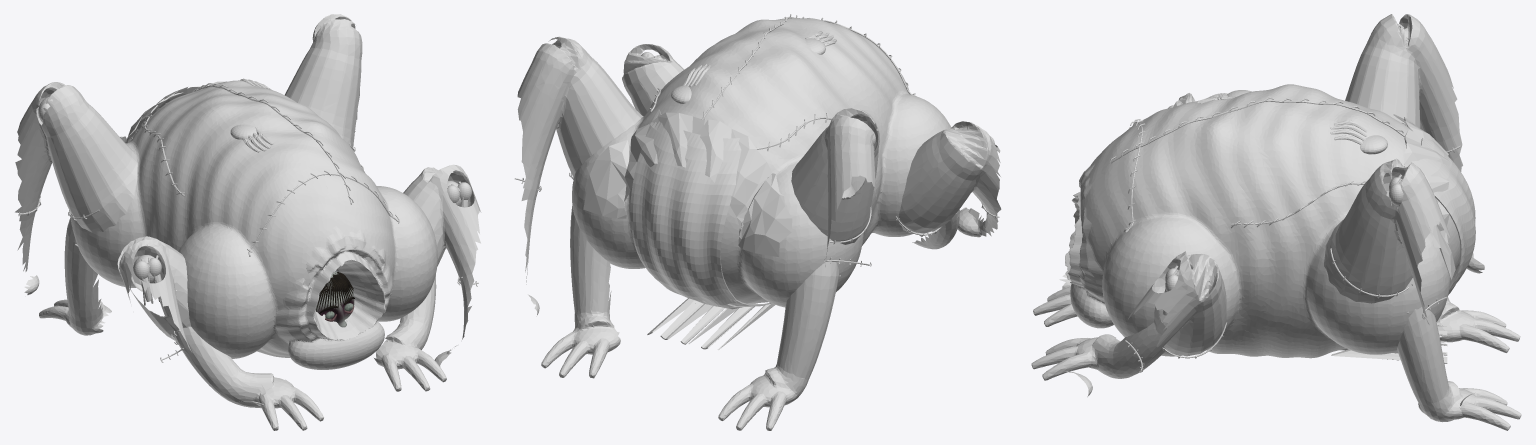
File: boss_2_limbs.glb
3 renders of one model, left to right at view 1: azimuth 30°, elevation 25°; view 2: azimuth 150°, elevation 25°; view 3: azimuth 270°, elevation 25°, orthographic. The views are drawn at different scales.
Parts seen in each view (by area): view 1: LegLF_2Mesh, LegRF_2Mesh, LegLF_1Mesh, LegLB_1Mesh, LegLB_2Mesh, Torso, LegLF_3Mesh, LegRF_1Mesh, LegRF_3Mesh, LegLB_3Mesh, LegRB_2Mesh, LegRB_1Mesh (+1 smaller); view 2: LegLB_2Mesh, LegRB_2Mesh, LegLB_1Mesh, LegLF_1Mesh, Torso, LegRB_1Mesh, LegLF_2Mesh, LegLB_3Mesh, LegRB_3Mesh, LegRF_2Mesh, LegLF_3Mesh; view 3: LegRF_1Mesh, LegRB_1Mesh, LegRF_2Mesh, LegRB_2Mesh, Torso, LegLB_2Mesh, LegRB_3Mesh, LegRF_3Mesh, LegLB_1Mesh, LegLB_3Mesh, LegLF_3Mesh, LegLF_2Mesh (+1 smaller).
Boxes of the visible parts, left/top/right/bottom form: LegLF_2Mesh: left=117, top=199, right=354, bottom=406; LegRF_2Mesh: left=332, top=164, right=481, bottom=366; LegLF_1Mesh: left=159, top=141, right=329, bottom=357; LegLB_1Mesh: left=92, top=83, right=215, bottom=287; LegLB_2Mesh: left=15, top=82, right=154, bottom=294; Torso: left=174, top=78, right=335, bottom=166; LegLF_3Mesh: left=160, top=299, right=323, bottom=430; LegRF_1Mesh: left=296, top=128, right=409, bottom=321; LegRF_3Mesh: left=374, top=274, right=446, bottom=391; LegLB_3Mesh: left=39, top=218, right=111, bottom=335; LegRB_2Mesh: left=292, top=14, right=362, bottom=151; LegRB_1Mesh: left=187, top=56, right=353, bottom=149; LegLB_2Mesh: left=667, top=108, right=879, bottom=349; LegRB_2Mesh: left=514, top=36, right=681, bottom=339; LegLB_1Mesh: left=679, top=84, right=865, bottom=350; LegLF_1Mesh: left=807, top=19, right=930, bottom=245; Torso: left=680, top=16, right=851, bottom=305; LegRB_1Mesh: left=598, top=63, right=723, bottom=342; LegLF_2Mesh: left=897, top=67, right=1001, bottom=237; LegLB_3Mesh: left=718, top=259, right=840, bottom=430; LegRB_3Mesh: left=541, top=206, right=620, bottom=378; LegRF_2Mesh: left=622, top=44, right=684, bottom=116; LegLF_3Mesh: left=912, top=209, right=959, bottom=249; LegRF_1Mesh: left=1111, top=112, right=1280, bottom=356; LegRB_1Mesh: left=1272, top=113, right=1450, bottom=363; LegRF_2Mesh: left=1065, top=149, right=1225, bottom=396; LegRB_2Mesh: left=1338, top=159, right=1475, bottom=409; Torso: left=1187, top=84, right=1364, bottom=358; LegLB_2Mesh: left=1353, top=14, right=1484, bottom=285; LegRB_3Mesh: left=1397, top=307, right=1521, bottom=430; LegRF_3Mesh: left=1031, top=313, right=1171, bottom=380; LegLB_1Mesh: left=1345, top=56, right=1450, bottom=345; LegLB_3Mesh: left=1436, top=297, right=1520, bottom=352; LegLF_3Mesh: left=1033, top=286, right=1077, bottom=326; LegLF_2Mesh: left=1059, top=93, right=1195, bottom=288.
Bounding box in the file's own units: 1.81 × 1.38 × 2.05.
1 material, 1 textured.
